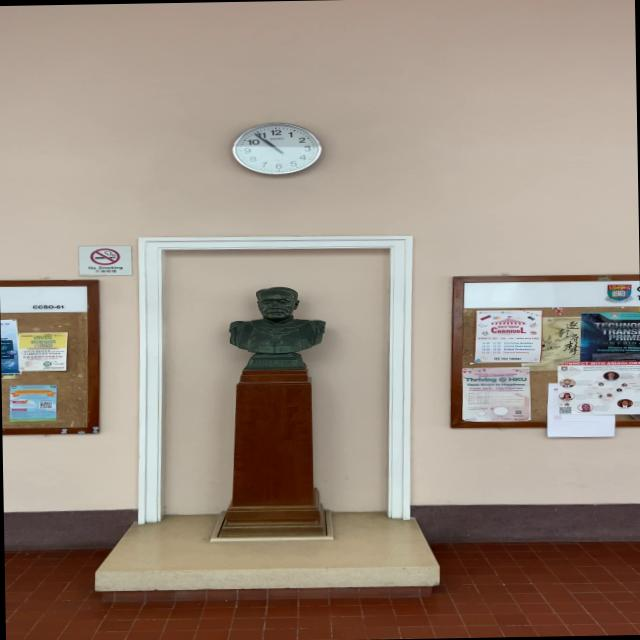statues: (218, 282, 334, 376)
